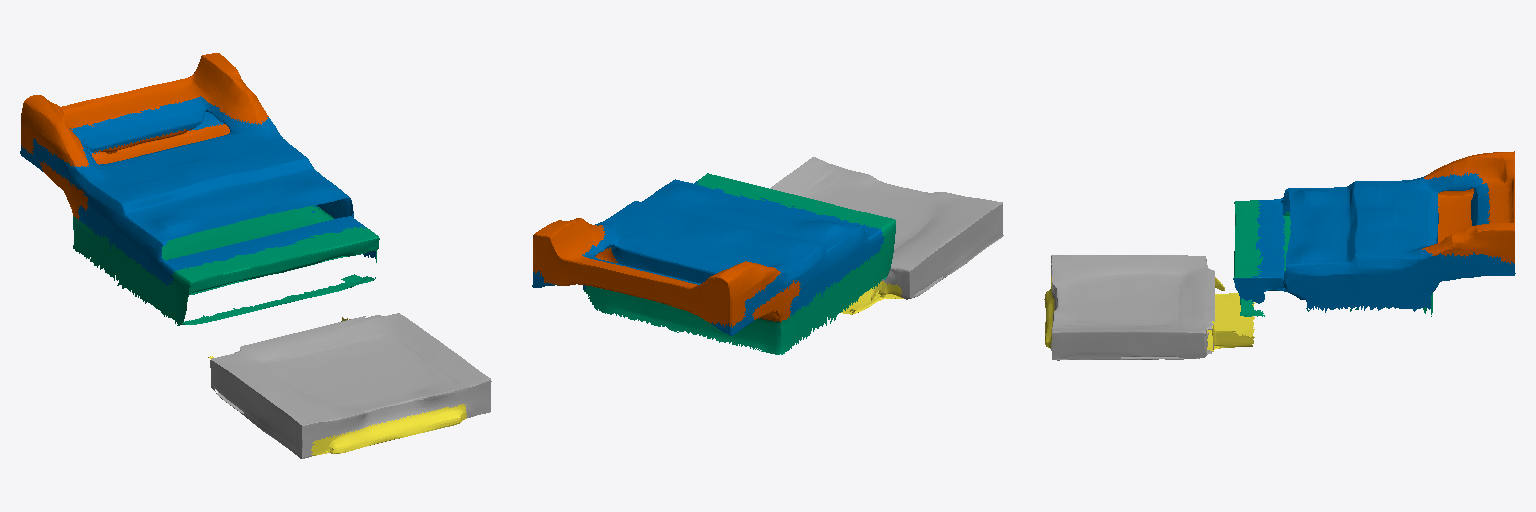
The robot description file, URDF, robot "scene":
<?xml version='1.0' encoding='utf-8'?>
<robot name="scene">
  <link name="l_world">
    <inertial>
      <origin xyz="0 0 0" rpy="0 0 0" />
      <mass value="1.0" />
      <inertia ixx="1.0" ixy="0.0" ixz="0.0" iyy="1.0" iyz="0.0" izz="1.0" />
    </inertial>
  </link>
  <link name="l_2">
    <inertial>
      <origin xyz="0 0 0" rpy="0 0 0" />
      <mass value="1.0" />
      <inertia ixx="1.0" ixy="0.0" ixz="0.0" iyy="1.0" iyz="0.0" izz="1.0" />
    </inertial>
    <visual>
      <geometry>
        <mesh filename="./objs/2/2.obj" scale="1 1 1" />
      </geometry>
      <origin xyz="0 0 0" rpy="0 0 0" />
    </visual>
  </link>
  <link name="l_3">
    <inertial>
      <origin xyz="0 0 0" rpy="0 0 0" />
      <mass value="1.0" />
      <inertia ixx="1.0" ixy="0.0" ixz="0.0" iyy="1.0" iyz="0.0" izz="1.0" />
    </inertial>
    <visual>
      <geometry>
        <mesh filename="./objs/3/3.obj" scale="1 1 1" />
      </geometry>
      <origin xyz="0 0 0" rpy="0 0 0" />
    </visual>
  </link>
  <link name="l_4">
    <inertial>
      <origin xyz="0 0 0" rpy="0 0 0" />
      <mass value="1.0" />
      <inertia ixx="1.0" ixy="0.0" ixz="0.0" iyy="1.0" iyz="0.0" izz="1.0" />
    </inertial>
    <visual>
      <geometry>
        <mesh filename="./objs/4/4.obj" scale="1 1 1" />
      </geometry>
      <origin xyz="0 0 0" rpy="0 0 0" />
    </visual>
  </link>
  <joint name="joint_fixed_2_3" type="fixed">
    <parent link="l_2" />
    <child link="l_3" />
    <origin xyz="0 0 0" rpy="0 0 0" />
  </joint>
  <joint name="joint_fixed_3_4" type="fixed">
    <parent link="l_3" />
    <child link="l_4" />
    <origin xyz="0 0 0" rpy="0 0 0" />
  </joint>
  <joint name="joint_fixed_world2" type="fixed">
    <parent link="l_world" />
    <child link="l_2" />
    <origin xyz="0 0 0" rpy="0 0 0" />
  </joint>
  <link name="l_0">
    <inertial>
      <origin xyz="0 0 0" rpy="0 0 0" />
      <mass value="1.0" />
      <inertia ixx="1.0" ixy="0.0" ixz="0.0" iyy="1.0" iyz="0.0" izz="1.0" />
    </inertial>
    <visual>
      <geometry>
        <mesh filename="./objs/0/0.obj" scale="1 1 1" />
      </geometry>
      <origin xyz="0 0 0" rpy="0 0 0" />
    </visual>
  </link>
  <link name="l_1">
    <inertial>
      <origin xyz="0 0 0" rpy="0 0 0" />
      <mass value="1.0" />
      <inertia ixx="1.0" ixy="0.0" ixz="0.0" iyy="1.0" iyz="0.0" izz="1.0" />
    </inertial>
    <visual>
      <geometry>
        <mesh filename="./objs/1/1.obj" scale="1 1 1" />
      </geometry>
      <origin xyz="0 0 0" rpy="0 0 0" />
    </visual>
  </link>
  <joint name="joint_fixed_0_1" type="fixed">
    <parent link="l_0" />
    <child link="l_1" />
    <origin xyz="0 0 0" rpy="0 0 0" />
  </joint>
  <link name="abstract_2_0">
    <inertial>
      <origin xyz="0 0 0" rpy="0 0 0" />
      <mass value="1.0" />
      <inertia ixx="1.0" ixy="0.0" ixz="0.0" iyy="1.0" iyz="0.0" izz="1.0" />
    </inertial>
  </link>
  <joint name="joint_fixed_abstract_2_0" type="fixed">
    <parent link="abstract_2_0" />
    <child link="l_0" />
    <origin xyz="0.5 -0.14749999999999996 0.1740625" rpy="0 0 0" />
  </joint>
  <joint name="joint_revolute_l_2_abstract_2_0" type="revolute">
    <parent link="l_2" />
    <child link="abstract_2_0" />
    <origin xyz="-0.5 0.14749999999999996 -0.1740625" rpy="0 0 0" />
    <axis xyz="1.0 0.0 0.0" />
    <limit lower="-0.17453292519943295" upper="0.0" effort="2000.0" velocity="2.0" />
  </joint>
  <link name="l_5">
    <inertial>
      <origin xyz="0 0 0" rpy="0 0 0" />
      <mass value="1.0" />
      <inertia ixx="1.0" ixy="0.0" ixz="0.0" iyy="1.0" iyz="0.0" izz="1.0" />
    </inertial>
    <visual>
      <geometry>
        <mesh filename="./objs/5/5.obj" scale="1 1 1" />
      </geometry>
      <origin xyz="0 0 0" rpy="0 0 0" />
    </visual>
  </link>
  <link name="abstract_2_5">
    <inertial>
      <origin xyz="0 0 0" rpy="0 0 0" />
      <mass value="1.0" />
      <inertia ixx="1.0" ixy="0.0" ixz="0.0" iyy="1.0" iyz="0.0" izz="1.0" />
    </inertial>
  </link>
  <joint name="joint_fixed_abstract_2_5" type="fixed">
    <parent link="abstract_2_5" />
    <child link="l_5" />
    <origin xyz="0 0 0" rpy="0 0 0" />
  </joint>
  <joint name="joint_free_l_2_abstract_2_5" type="floating">
    <parent link="l_2" />
    <child link="abstract_2_5" />
    <origin xyz="0 0 0" rpy="0 0 0" />
  </joint>
</robot>

--- Facts derived from the render (not from the file) ---
Views: 3 orthographic renders of the robot side by side, from view 1: azimuth 30°, elevation 25°; view 2: azimuth 150°, elevation 25°; view 3: azimuth 270°, elevation 25°.
Model scene with 9 links and 8 joints (1 revolute, 6 fixed, 1 floating), rooted at l_world, posed all joints at 0.
Links seen in each view (by area): view 1: l_0, l_5, l_3, l_1, l_4; view 2: l_0, l_5, l_1, l_3, l_4; view 3: l_0, l_5, l_1, l_4, l_3.
Boxes of the visible links, <box> form: l_0: <box>20,96,375,285</box>; l_5: <box>210,313,491,458</box>; l_3: <box>73,205,379,325</box>; l_1: <box>21,53,268,219</box>; l_4: <box>208,317,466,456</box>; l_0: <box>532,179,884,335</box>; l_5: <box>770,157,1003,299</box>; l_1: <box>533,218,800,327</box>; l_3: <box>584,173,895,354</box>; l_4: <box>841,281,903,314</box>; l_0: <box>1233,172,1515,312</box>; l_5: <box>1051,255,1214,360</box>; l_1: <box>1422,151,1514,264</box>; l_4: <box>1044,276,1255,351</box>; l_3: <box>1233,200,1432,316</box>.
Size in the robot's own frame: 0.4049 by 0.9828 by 0.3094 metres.
Meshes: 6 distinct files referenced, 5 mesh visuals loaded (5 OBJ); not drawn: 1 (reference not matched to a file when rendering).
